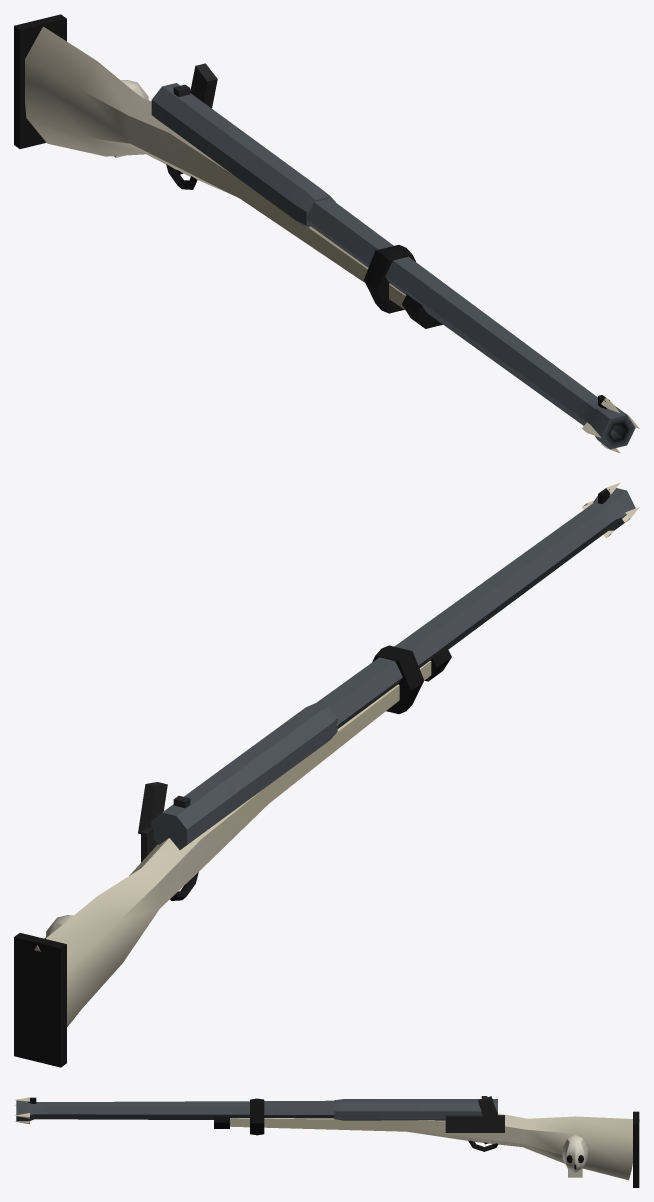
File: weapon_musket_bone_lo.glb
The picture shows the model from 3 angles, top to bottom: view 1: azimuth 30°, elevation 25°; view 2: azimuth 150°, elevation 25°; view 3: azimuth 270°, elevation 25°; orthographic projection. The views are drawn at different scales.
Visible parts, largest first — view 1: weapon_musket_bone_lo; view 2: weapon_musket_bone_lo; view 3: weapon_musket_bone_lo.
Boxes of the visible parts, x1,y1,x2,y2 form: weapon_musket_bone_lo: (14,14,639,453); weapon_musket_bone_lo: (14,482,639,1067); weapon_musket_bone_lo: (14,1096,639,1187).
Bounding box in the file's own units: 0.106 × 0.2206 × 1.38.
